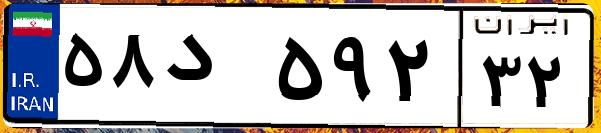2: (385, 28, 445, 110), (525, 38, 570, 115)
3: (475, 38, 525, 113)
5: (270, 28, 330, 110), (57, 26, 110, 100)
8: (110, 28, 158, 98)
9: (330, 28, 385, 110)
د: (158, 20, 270, 120)
